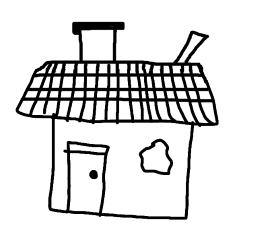chimney: (61, 10, 130, 61), (170, 26, 212, 68)
door: (61, 134, 113, 216)
open_window: (131, 130, 184, 186)
roof: (13, 59, 222, 125)
wall: (40, 118, 201, 226)
